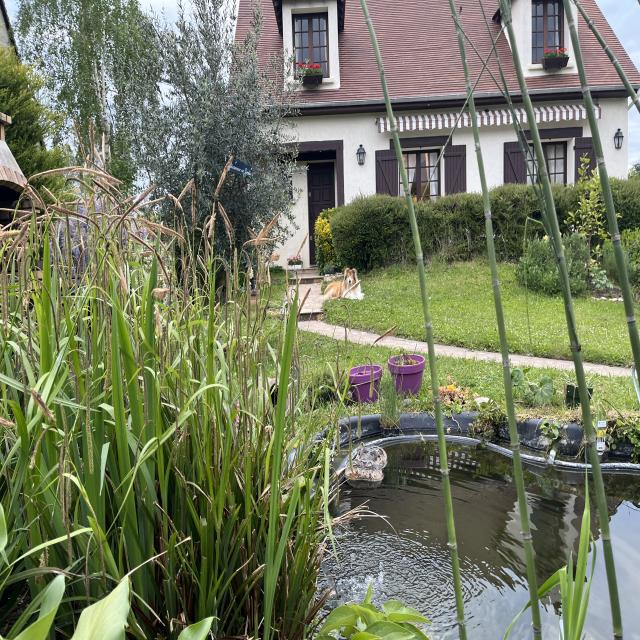Dog: (322, 261, 370, 316)
